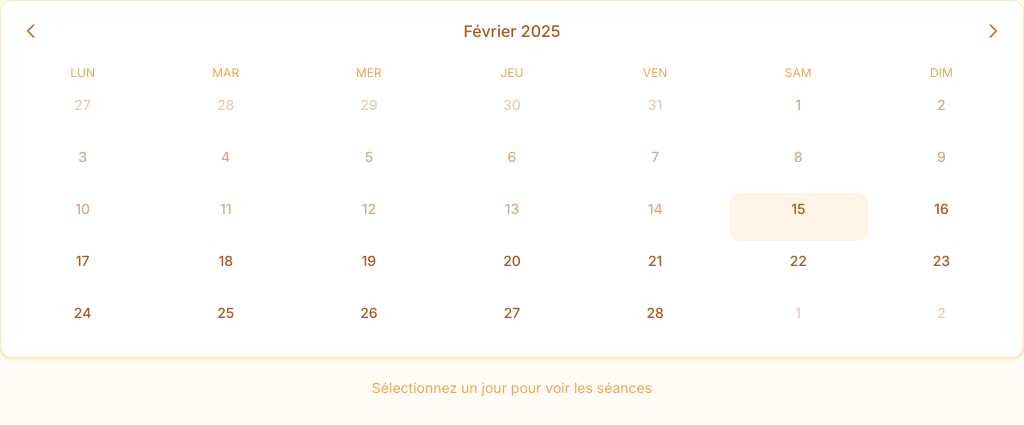
MonthCalendar › Month Navigation › shows "Revenir à aujourd'hui" button when not on current month
This screenshot has width=1024, height=425.
Step 1. Click the button named "Mois précédent" → (31, 31), box left=13, top=13, right=49, bottom=49
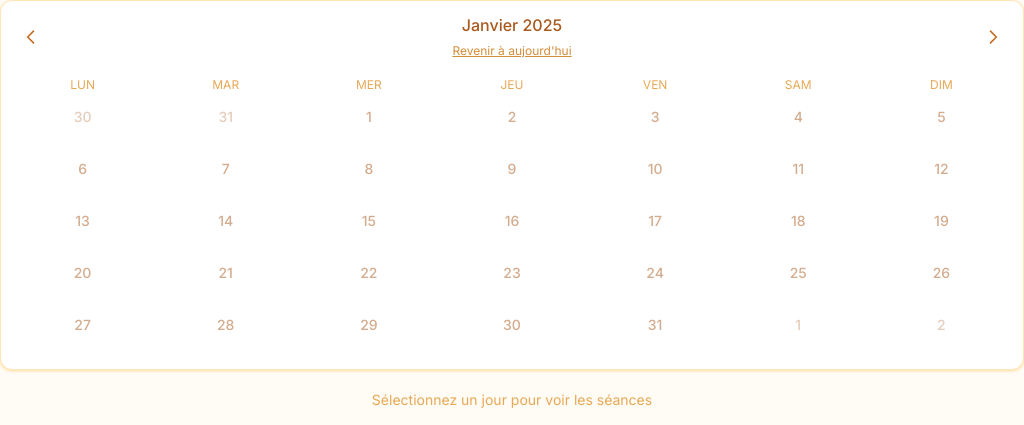
Expected: the button "Revenir à aujourd'hui" is shown, left=452, top=43, right=572, bottom=59
